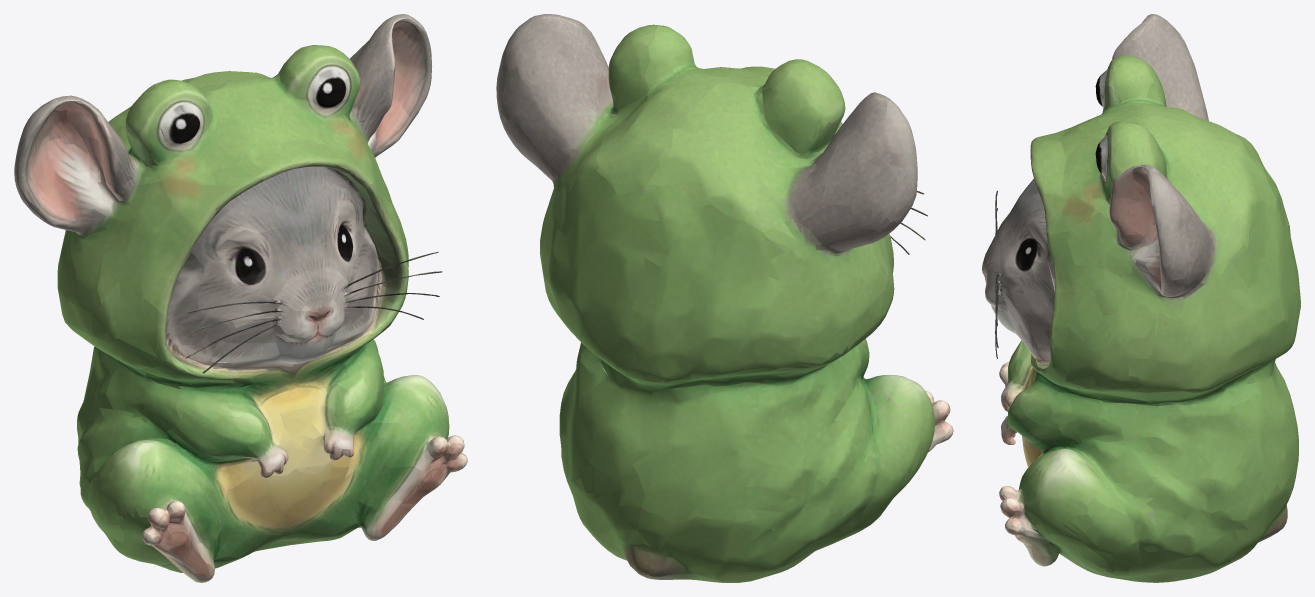
Rendered from costume-frog_chinchilla-gray.glb.
3 views of the same model, side by side, from view 1: azimuth 30°, elevation 25°; view 2: azimuth 150°, elevation 25°; view 3: azimuth 270°, elevation 25° (orthographic). The views are drawn at different scales.
Parts seen in each view (by area): view 1: Mesh_0; view 2: Mesh_0; view 3: Mesh_0.
Part boxes in pixels (x1,y1,x2,y2): Mesh_0: [14, 14, 467, 582]; Mesh_0: [496, 14, 953, 582]; Mesh_0: [982, 14, 1300, 582].
Size of the model in its own units: 1.65 by 1.9 by 1.18.
Materials: 1 (1 with a texture image).
